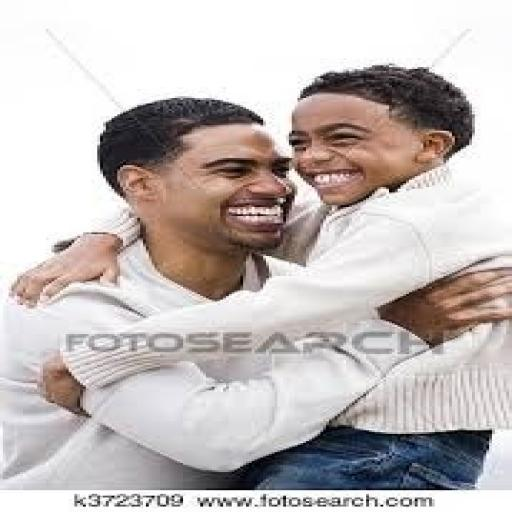hugging: (3, 62, 509, 488)
